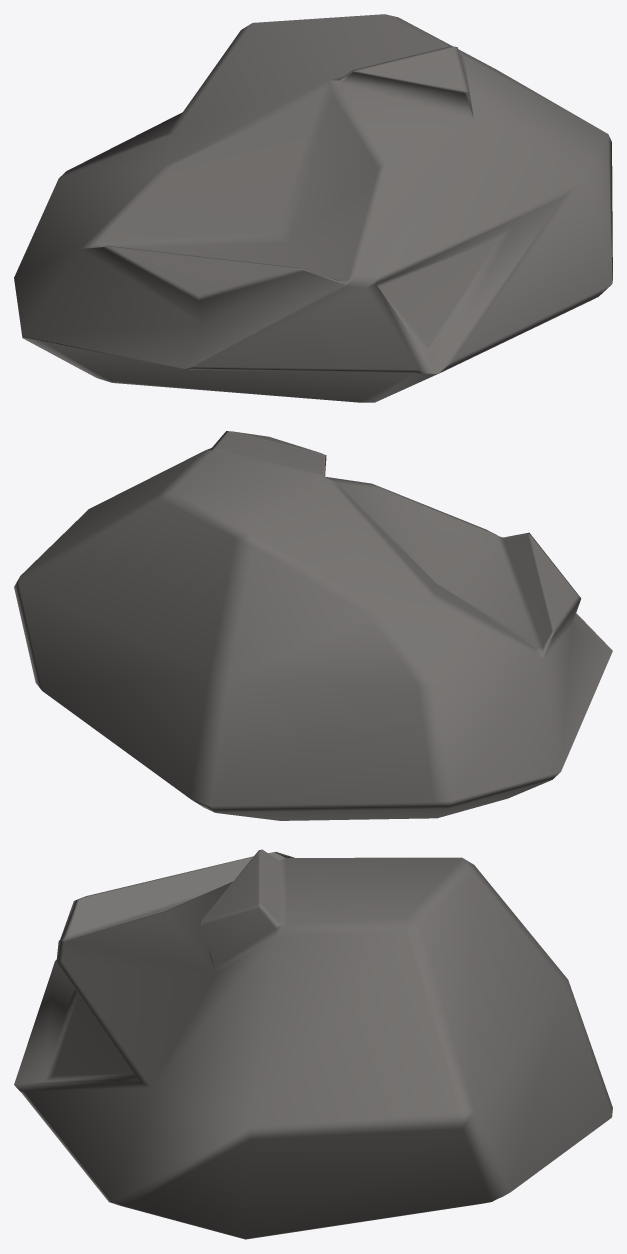
Rendered from Asteroid5.glb.
3 views of the same model, one above another, from view 1: azimuth 30°, elevation 25°; view 2: azimuth 150°, elevation 25°; view 3: azimuth 270°, elevation 25° (orthographic). The views are drawn at different scales.
Parts seen in each view (by area): view 1: Аsteroid_05; view 2: Аsteroid_05; view 3: Аsteroid_05.
Boxes of the visible parts, left/top/right/bottom form: Аsteroid_05: left=14, top=14, right=612, bottom=402; Аsteroid_05: left=14, top=431, right=612, bottom=820; Аsteroid_05: left=14, top=849, right=612, bottom=1239.
Size of the model in its own units: 6.9 by 3.71 by 5.77.
1 material, 1 textured.
